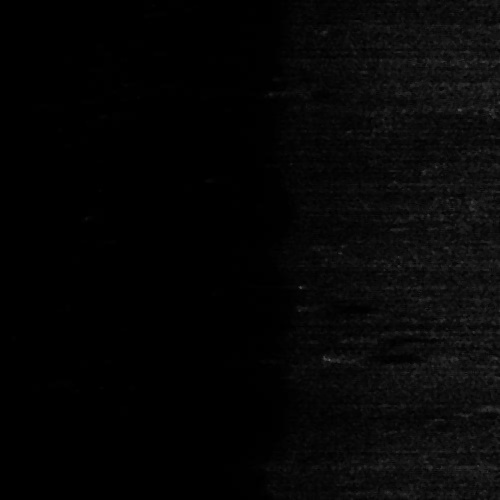object: (317, 352, 370, 359), (480, 401, 500, 408), (481, 410, 500, 417)
shadow: (344, 352, 458, 359)
